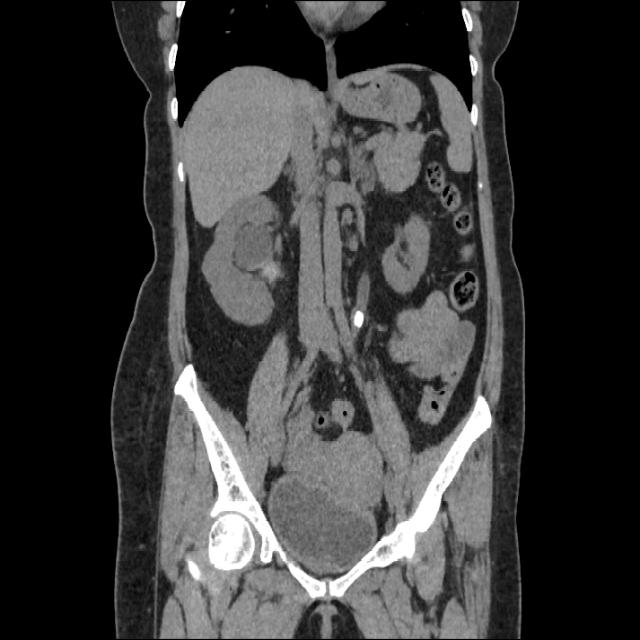kidney: (203, 197, 291, 324)
stone: (354, 306, 364, 330)
